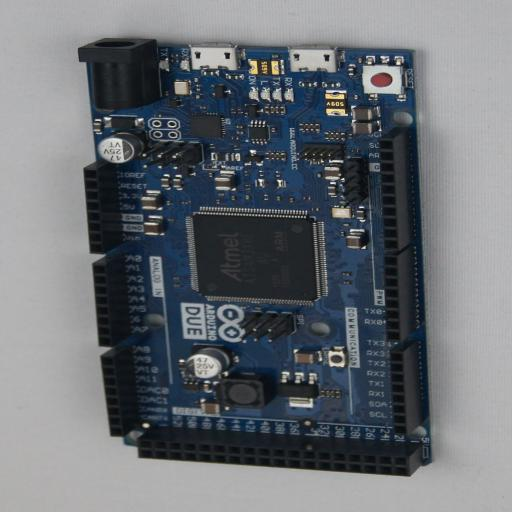Arduino Due: (78, 38, 432, 476)
